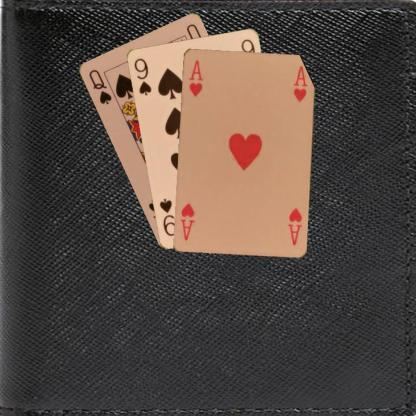9s: (131, 55, 153, 96)
Ah: (186, 57, 204, 98), (285, 205, 303, 246)
Qs: (86, 66, 112, 106)
